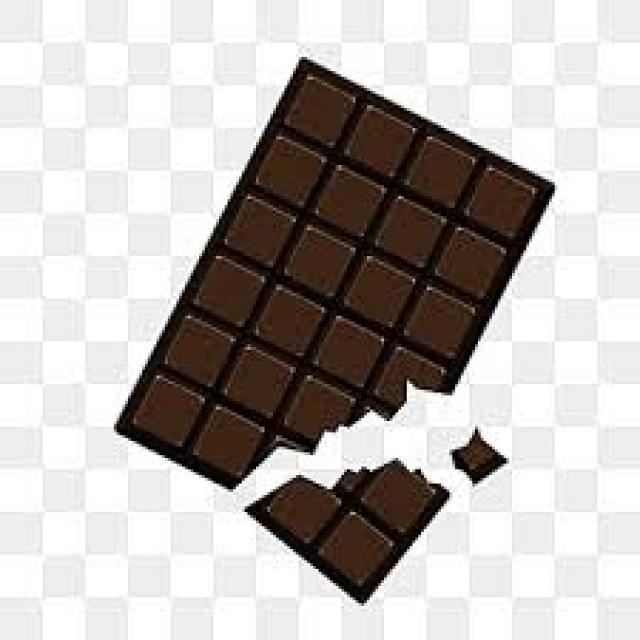Chocolate: (108, 51, 556, 604)
